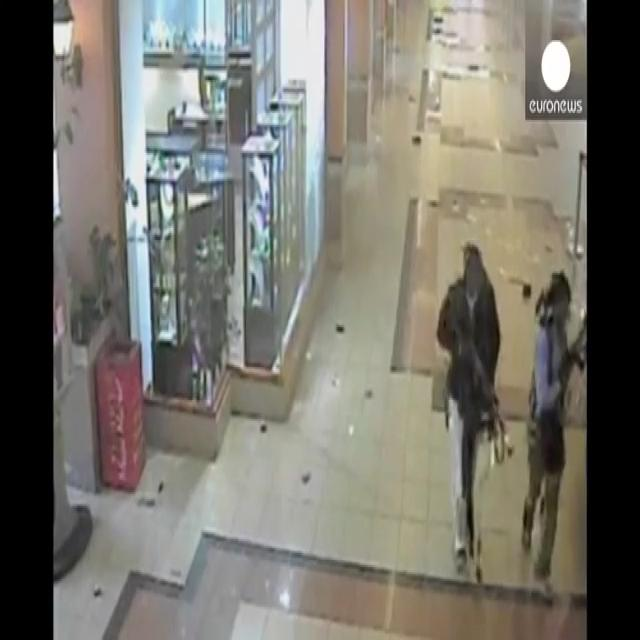Weapon: (439, 295, 527, 475), (556, 296, 590, 410)
